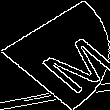M_NW: (7, 21, 103, 89)
